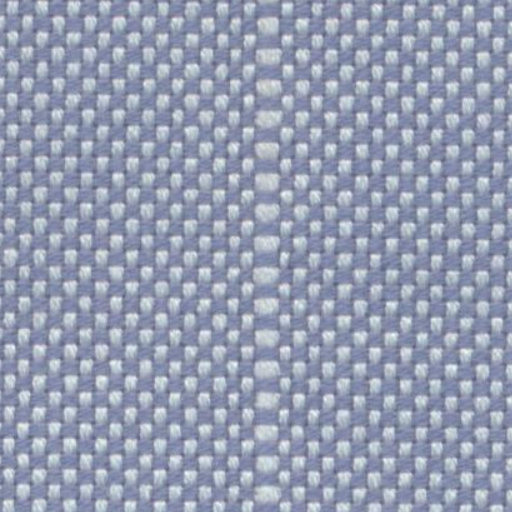TuoSha: (234, 10, 312, 496)
